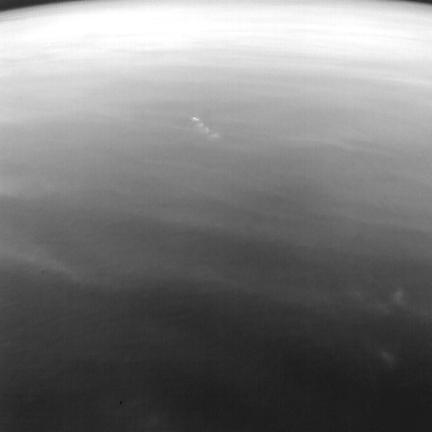flukeprints: (191, 116, 219, 137)
